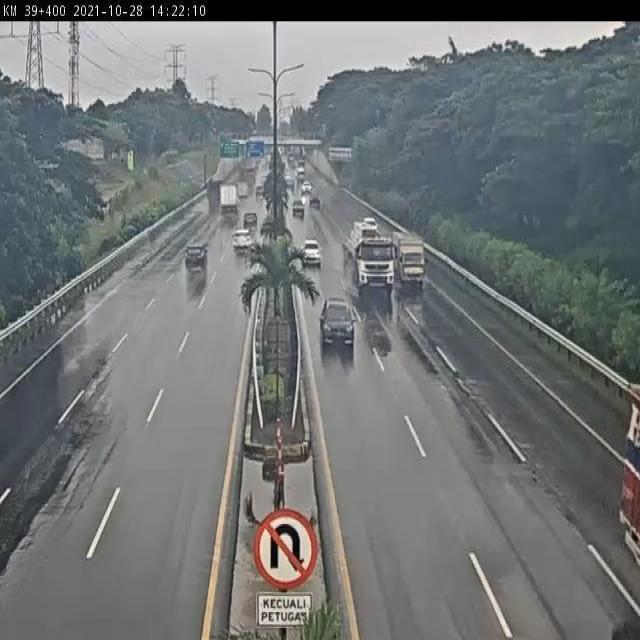car: (318, 291, 355, 348), (183, 239, 209, 275), (298, 237, 323, 268), (229, 228, 255, 257)
truck: (343, 216, 397, 293), (391, 227, 428, 291)
